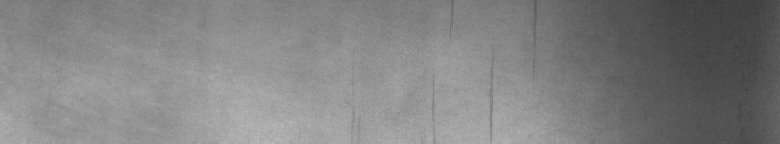ka: (429, 4, 539, 136)
